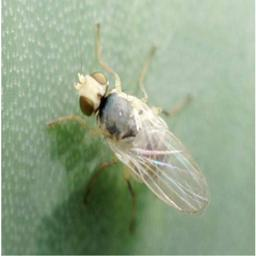liriomyza: (49, 24, 210, 230)
